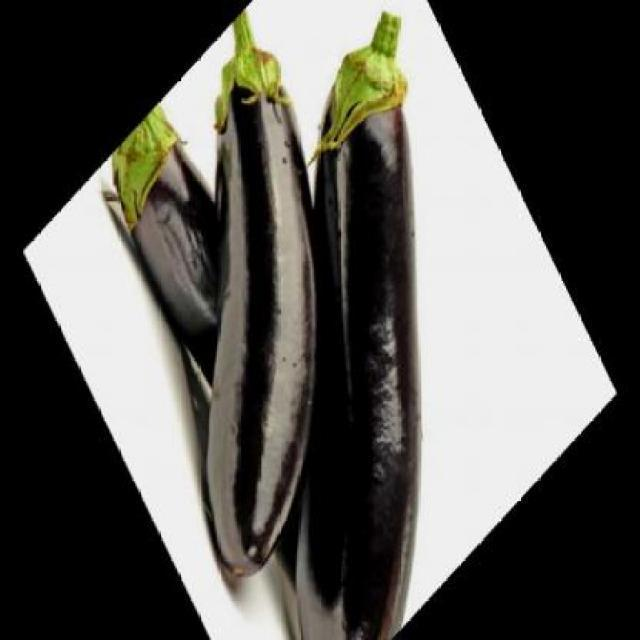eggplant: (116, 0, 432, 638), (195, 4, 432, 592), (96, 90, 278, 398)
